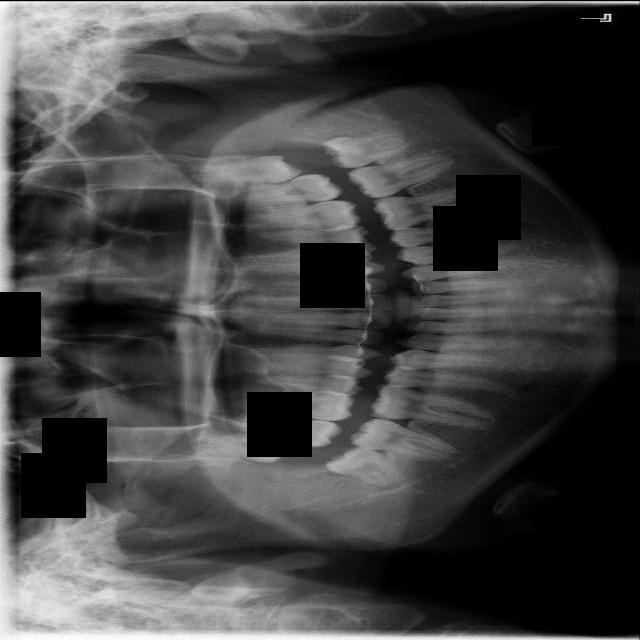3M ESPE Implant: (187, 425, 299, 466)
73: (578, 32, 586, 36)
BioHorizons Implant: (231, 170, 344, 208)
BioLife Implant: (189, 152, 302, 190)
Biomet 3i Implant: (321, 129, 417, 170)
Blue Sky Bio Implant: (344, 150, 457, 203)
Caries: (228, 409, 345, 449)
Implant: (349, 412, 463, 464)
Keystone Dental Implant: (324, 433, 411, 494)
